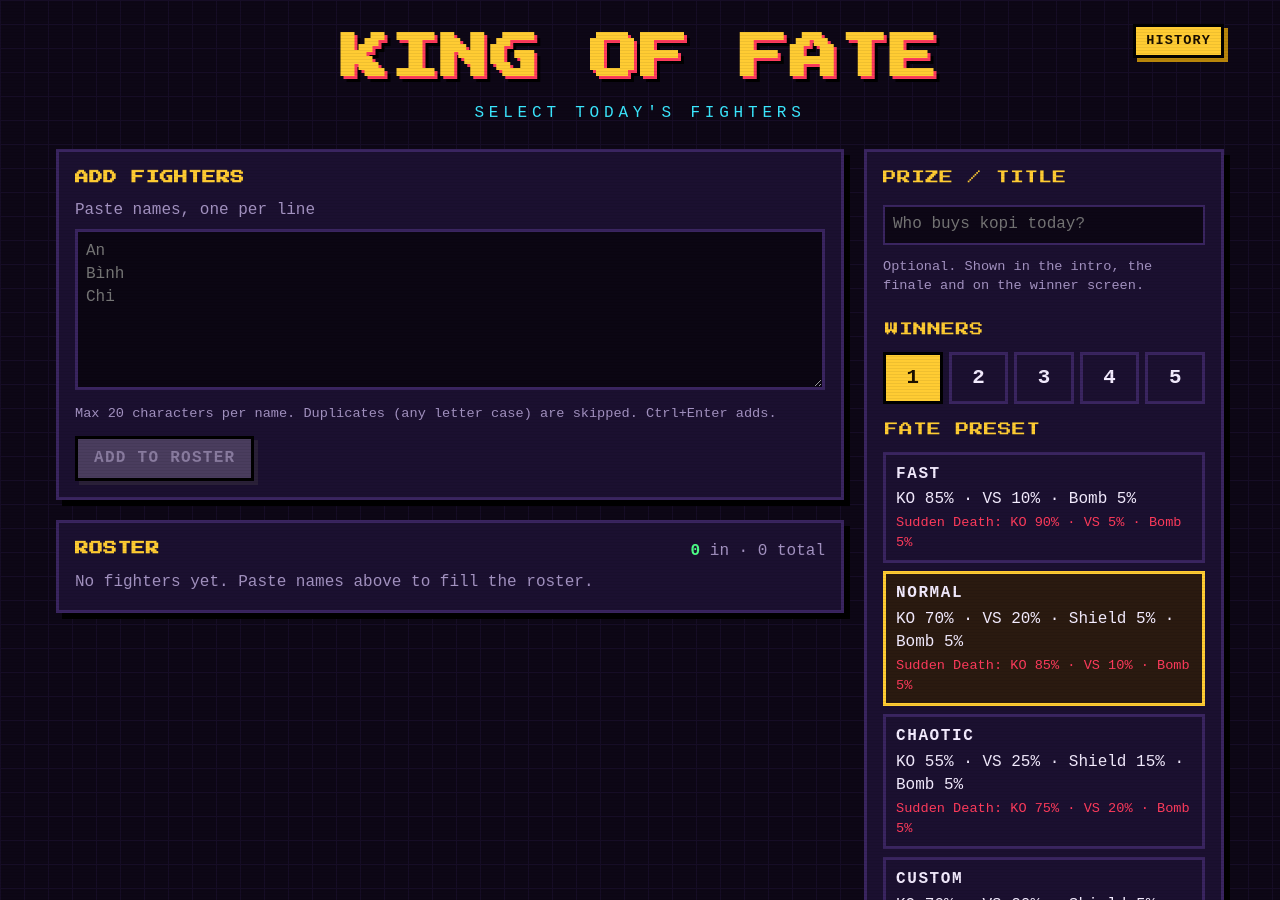
it: History screen (Phase 6) › shows an empty state with exports disabled when nothing is stored
Click the button "History". click: x=1179, y=41
box: left=1133, top=24, right=1224, bottom=58
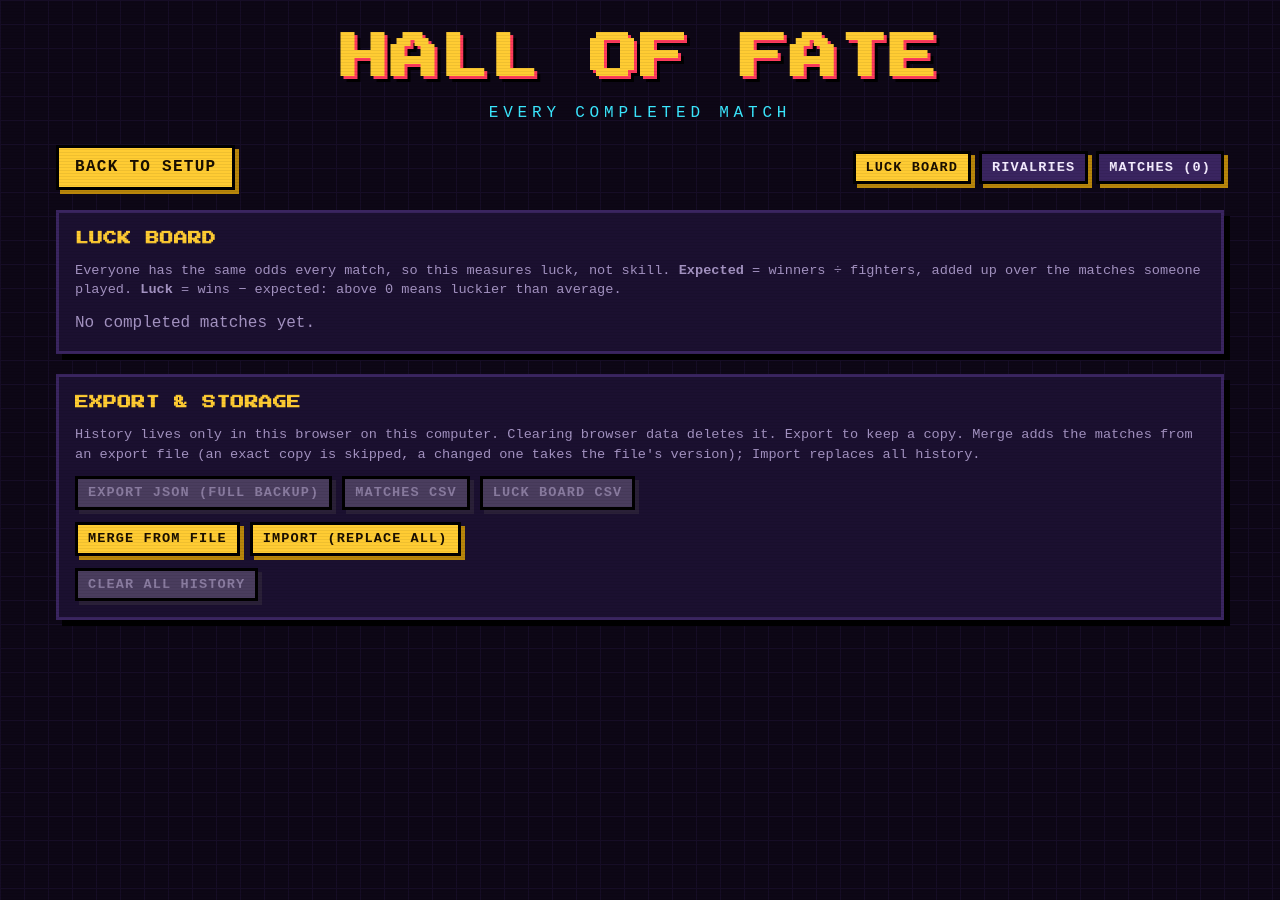
Result: the heading "Hall of Fate" is shown at left=340, top=34, right=940, bottom=82
Result: the text "No completed matches yet." is shown at left=75, top=314, right=315, bottom=332
Result: the button "Export JSON (full backup)" is disabled at left=75, top=476, right=332, bottom=510
